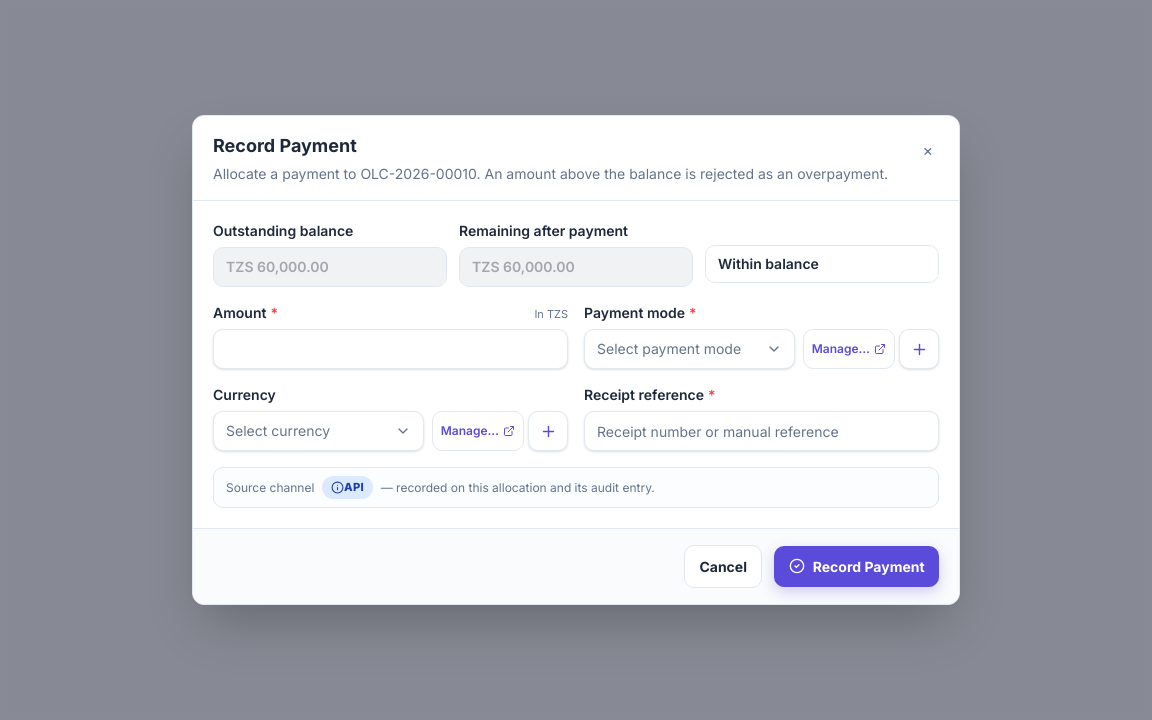
RecordPaymentModal › renders the COMMITMENT_OVERPAYMENT ErrorCoach with resolution steps
In the number field labelled "Amount*": (390, 349) [213,329,568,369], type "999999"
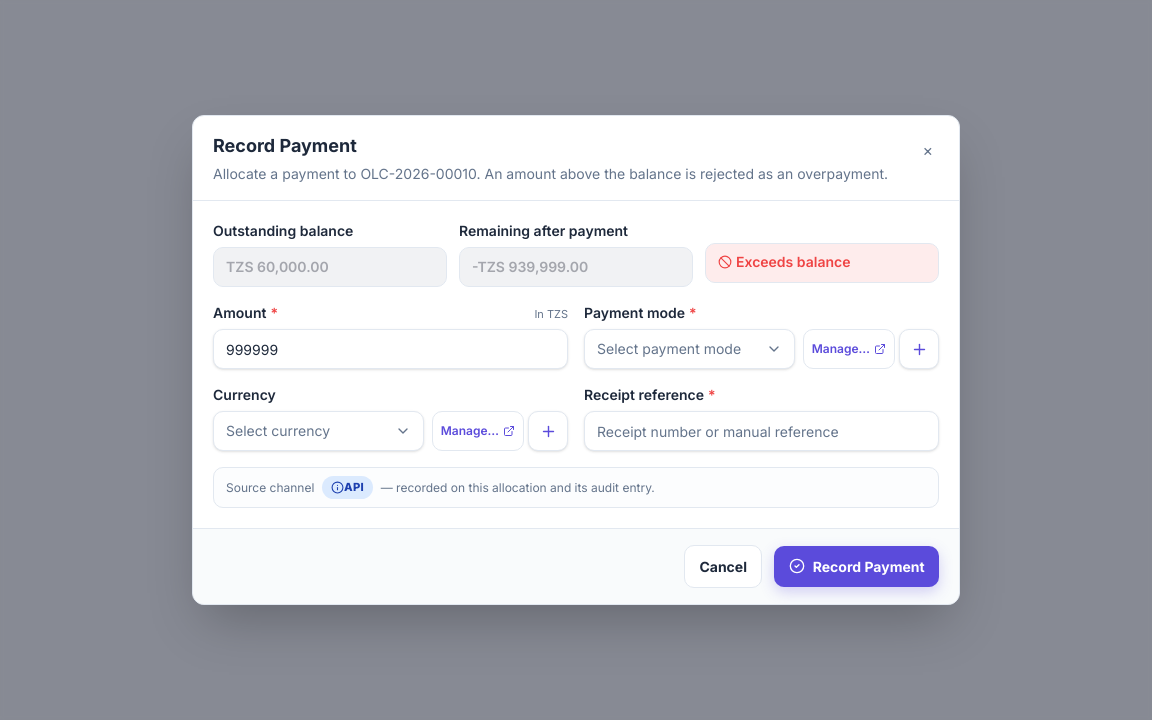
In the field labelled "Receipt reference*": (762, 431) [584,411,939,451], type "RCT-2026-999"
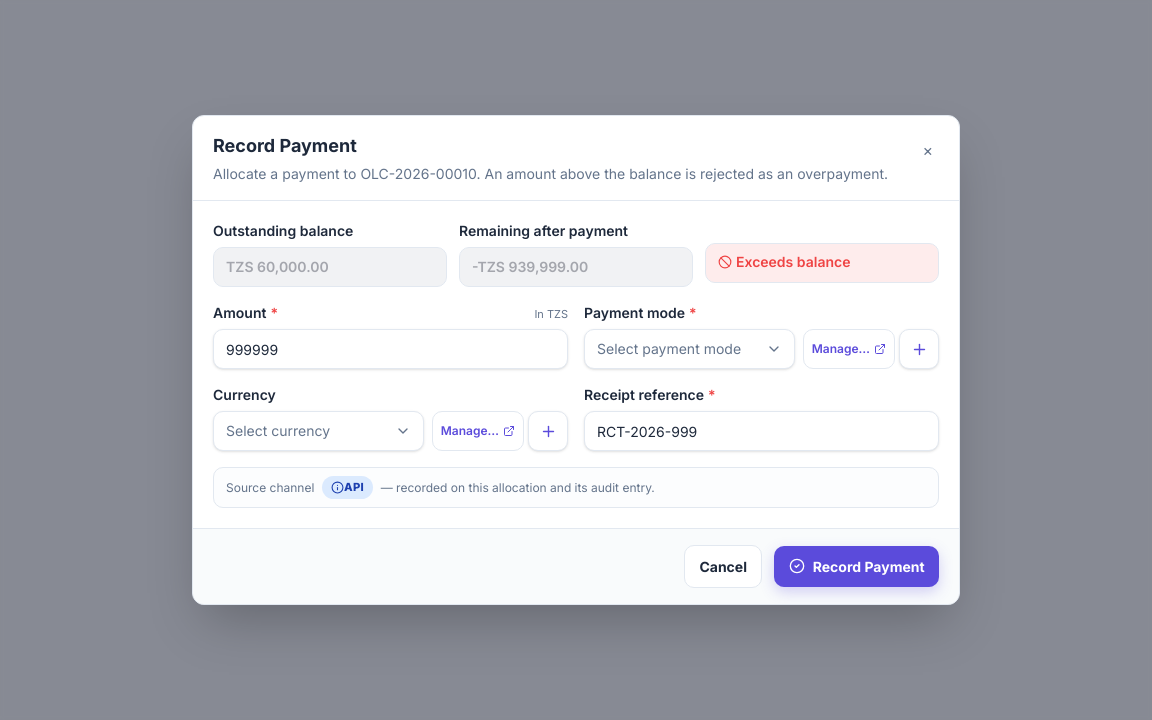
Click the button labelled "Select payment mode": (689, 349) [584,329,795,369]
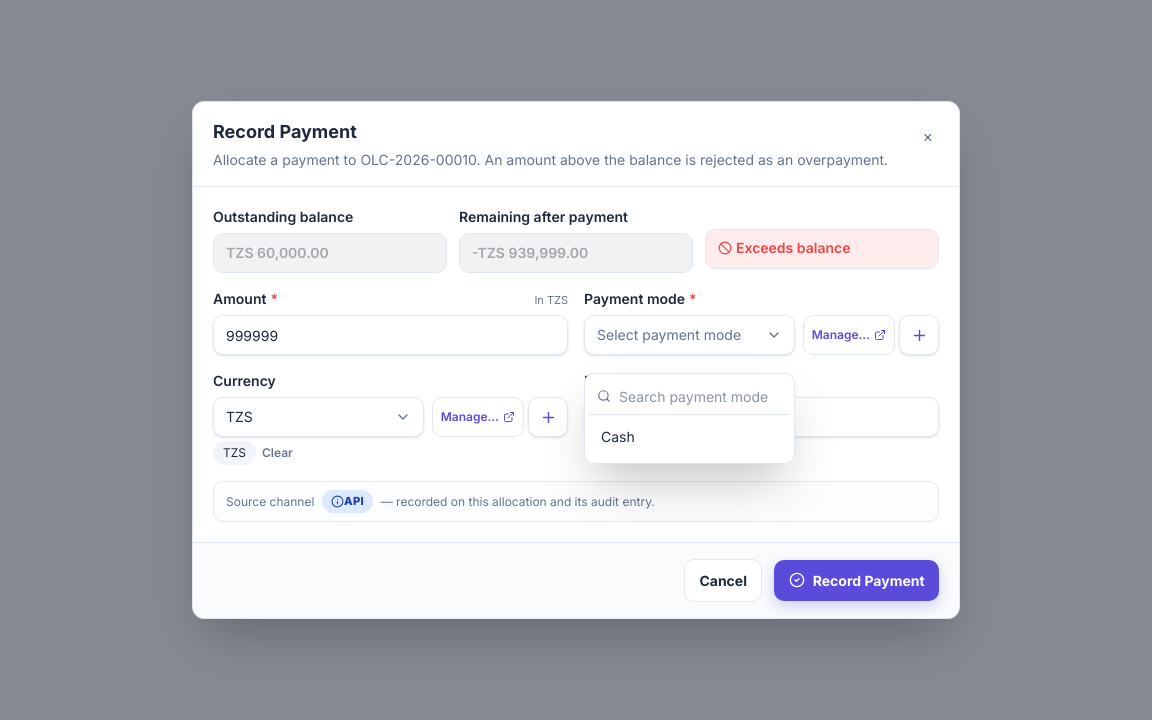
Click the option "Cash": (689, 437) [589,419,790,455]
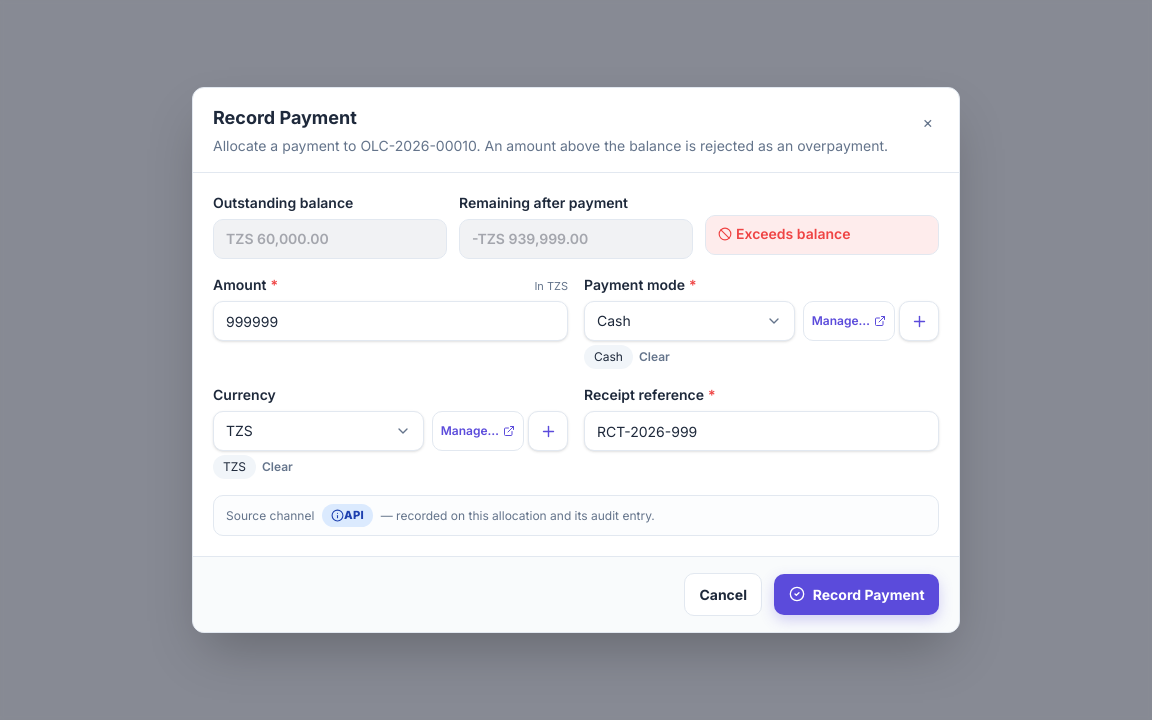
Click the button with test id "record-payment-submit": (857, 594) [774,574,939,615]
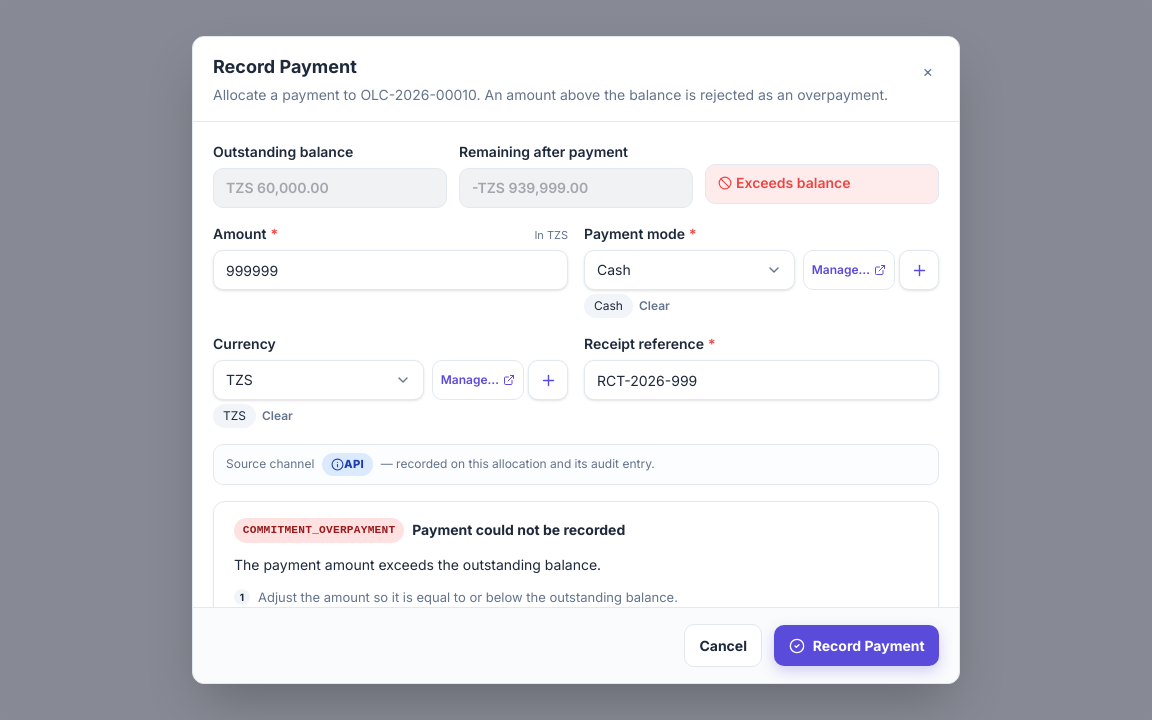
Result: the text with test id "error-coach-code" reads "COMMITMENT_OVERPAYMENT" at [243,524,395,536]
Result: the text "Adjust the amount so it is equal to or below the outstanding balance" is shown at [258,589,678,605]
